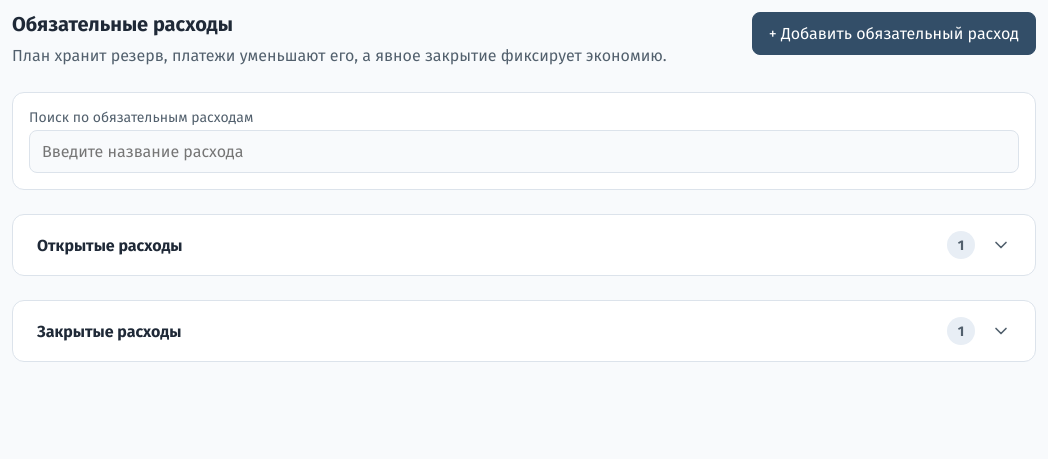
Test: ObligationsPage interface › filters both groups by title and expands matching results
Type "страх" into the search field labelled "Поиск по обязательным расходам".
click(524, 152); type("страх")  # box [29, 130, 1019, 173]
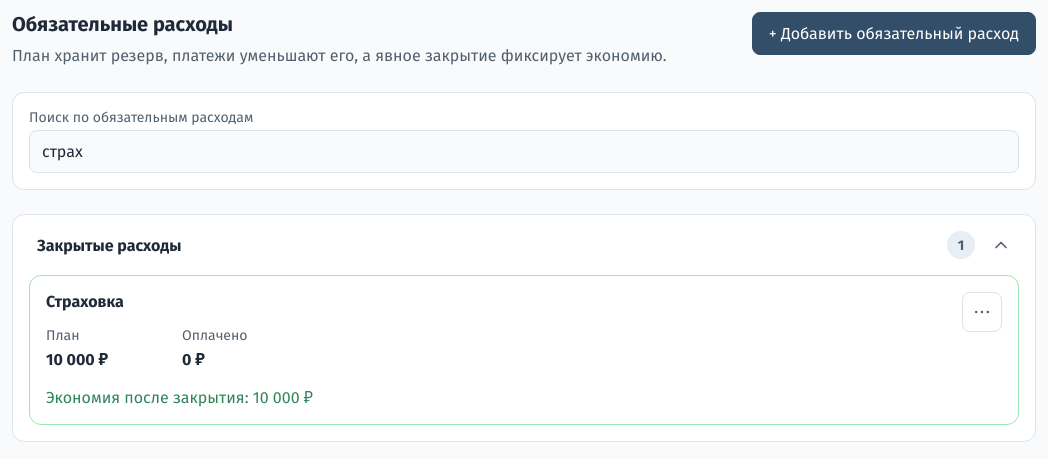
Expected: the number of elements with class "obligation-group" is 1, [12, 214, 1036, 442]
Expected: the element with class "obligation-group" shows "Страховка", [46, 292, 124, 311]
